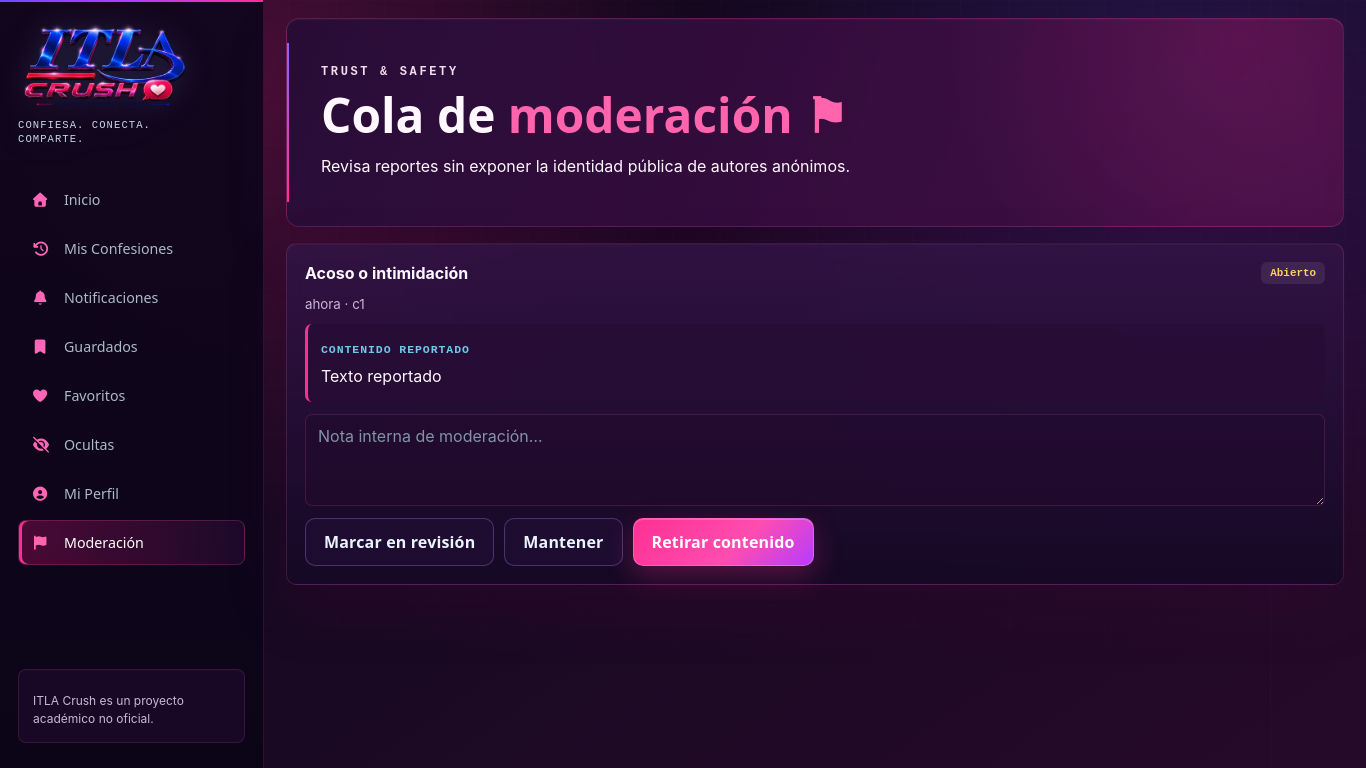
Test: moderación › un error al marcar en revisión se muestra y no queda sin manejar
The width and height of the screenshot is (1366, 768).
Click the button "Marcar en revisión" at (400, 542), box [305,518,494,566]
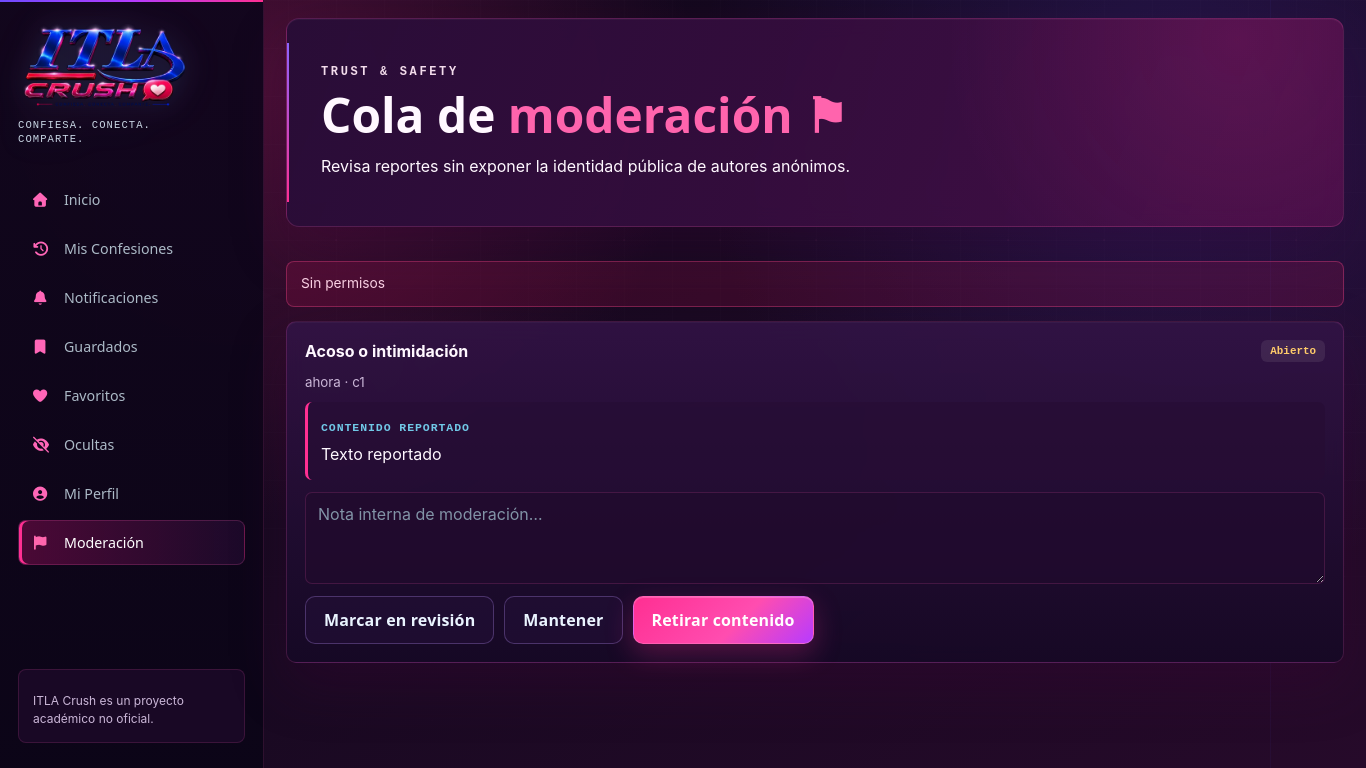
Result: the message "Sin permisos" is shown at [286,261,1344,307]
Result: the message reads "Sin permisos" at [301,275,385,291]
